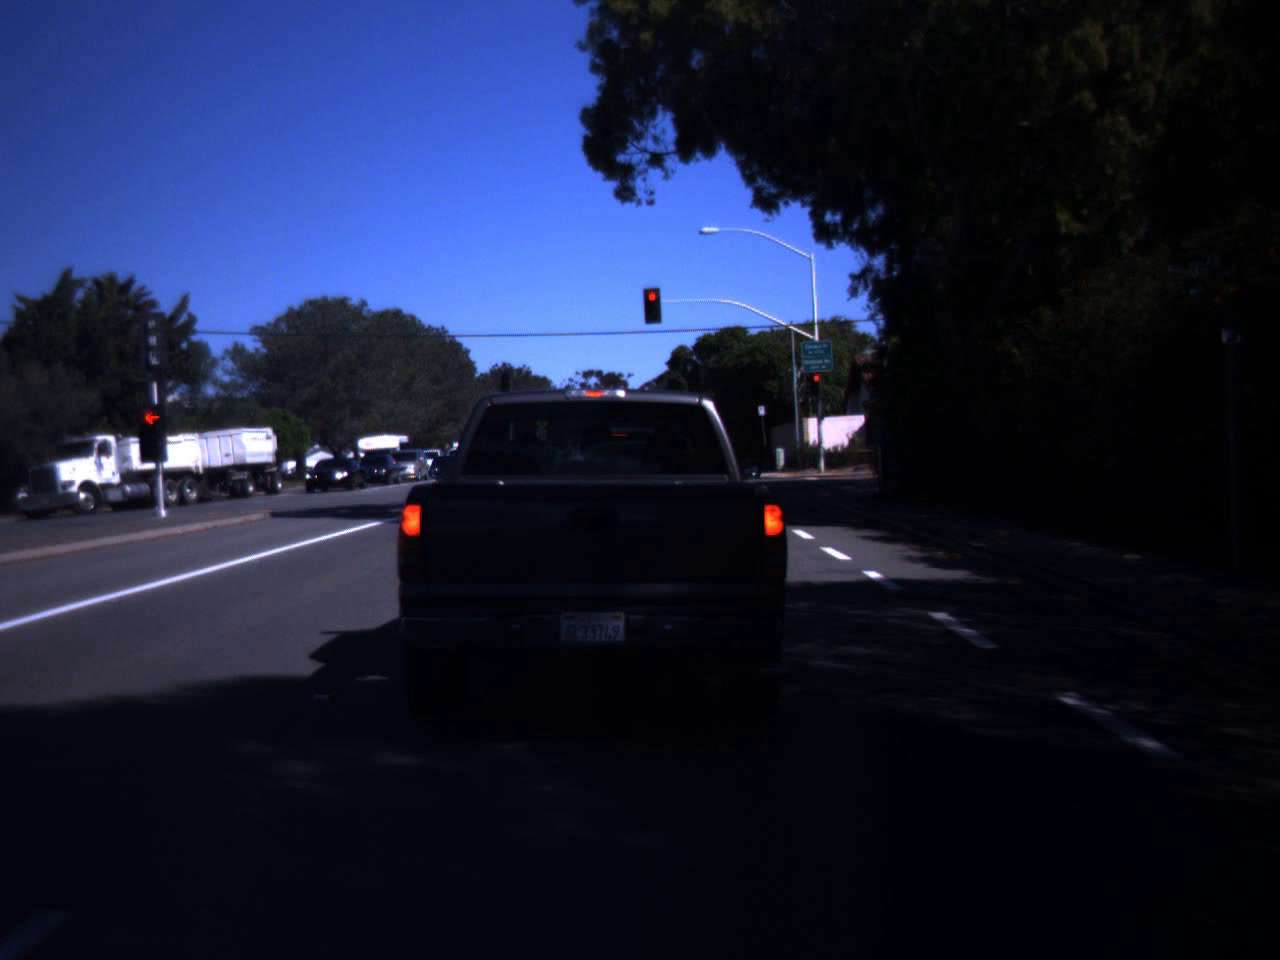stop: (127, 403, 178, 461), (645, 291, 660, 318), (810, 374, 822, 392)
